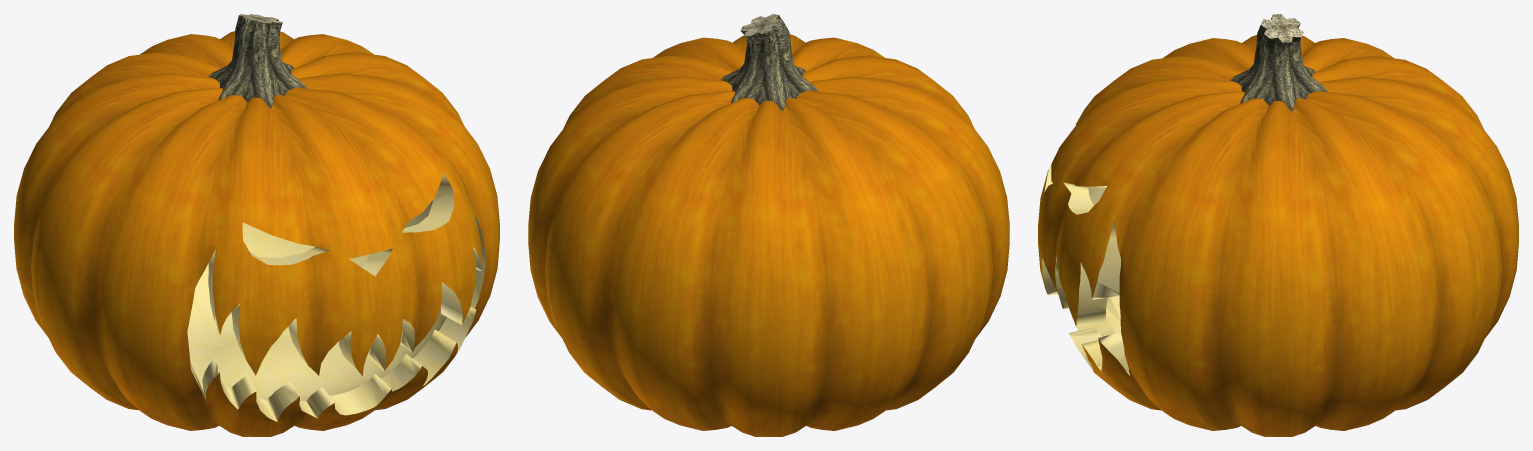
File: 南瓜灯_02.obj
The picture shows the model from 3 angles, left to right: view 1: azimuth 30°, elevation 25°; view 2: azimuth 150°, elevation 25°; view 3: azimuth 270°, elevation 25°; orthographic projection.
Visible parts, largest first — view 1: PumpkinA_001; view 2: PumpkinA_001; view 3: PumpkinA_001.
Part boxes in pixels (box(x1,y1,x2,y2)): PumpkinA_001: box(14, 14, 499, 436); PumpkinA_001: box(528, 14, 1009, 436); PumpkinA_001: box(1038, 14, 1518, 436).
Size of the model in its own units: 105 by 88.4 by 105.
